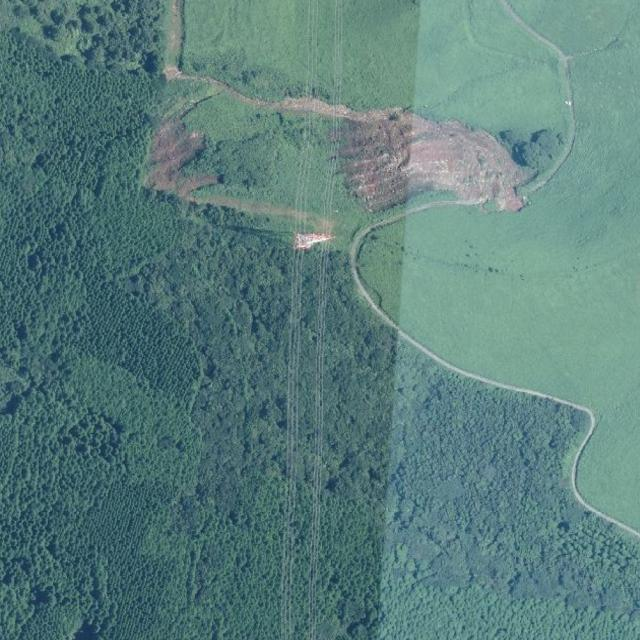landslide: (278, 97, 531, 210), (145, 118, 218, 196)
